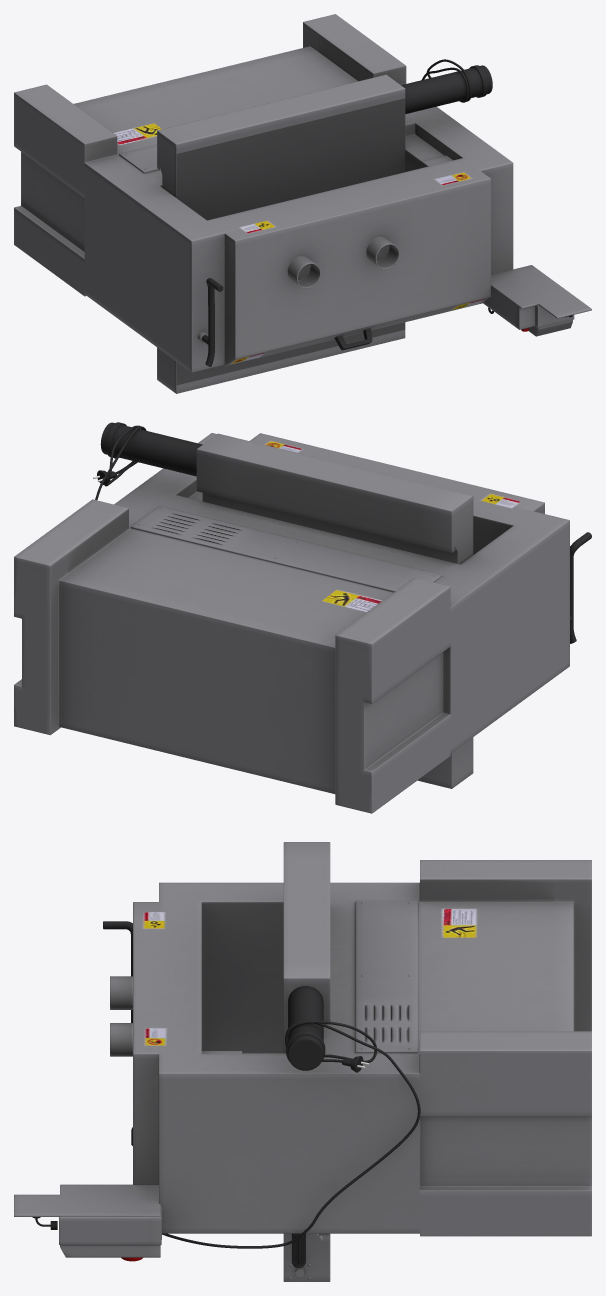
The picture shows the model from 3 angles, top to bottom: view 1: azimuth 30°, elevation 25°; view 2: azimuth 150°, elevation 25°; view 3: azimuth 270°, elevation 25°; orthographic projection. The views are drawn at different scales.
Parts seen in each view (by area): view 1: 13610_Drum_Sander_v1_L2.001; view 2: 13610_Drum_Sander_v1_L2.001; view 3: 13610_Drum_Sander_v1_L2.001.
Part boxes in pixels (<box>): 13610_Drum_Sander_v1_L2.001: <box>14,14,591,393</box>; 13610_Drum_Sander_v1_L2.001: <box>14,422,591,813</box>; 13610_Drum_Sander_v1_L2.001: <box>14,842,591,1281</box>.
Bounding box in the file's own units: 59.62 × 40.17 × 69.24.
1 material, 1 textured.
